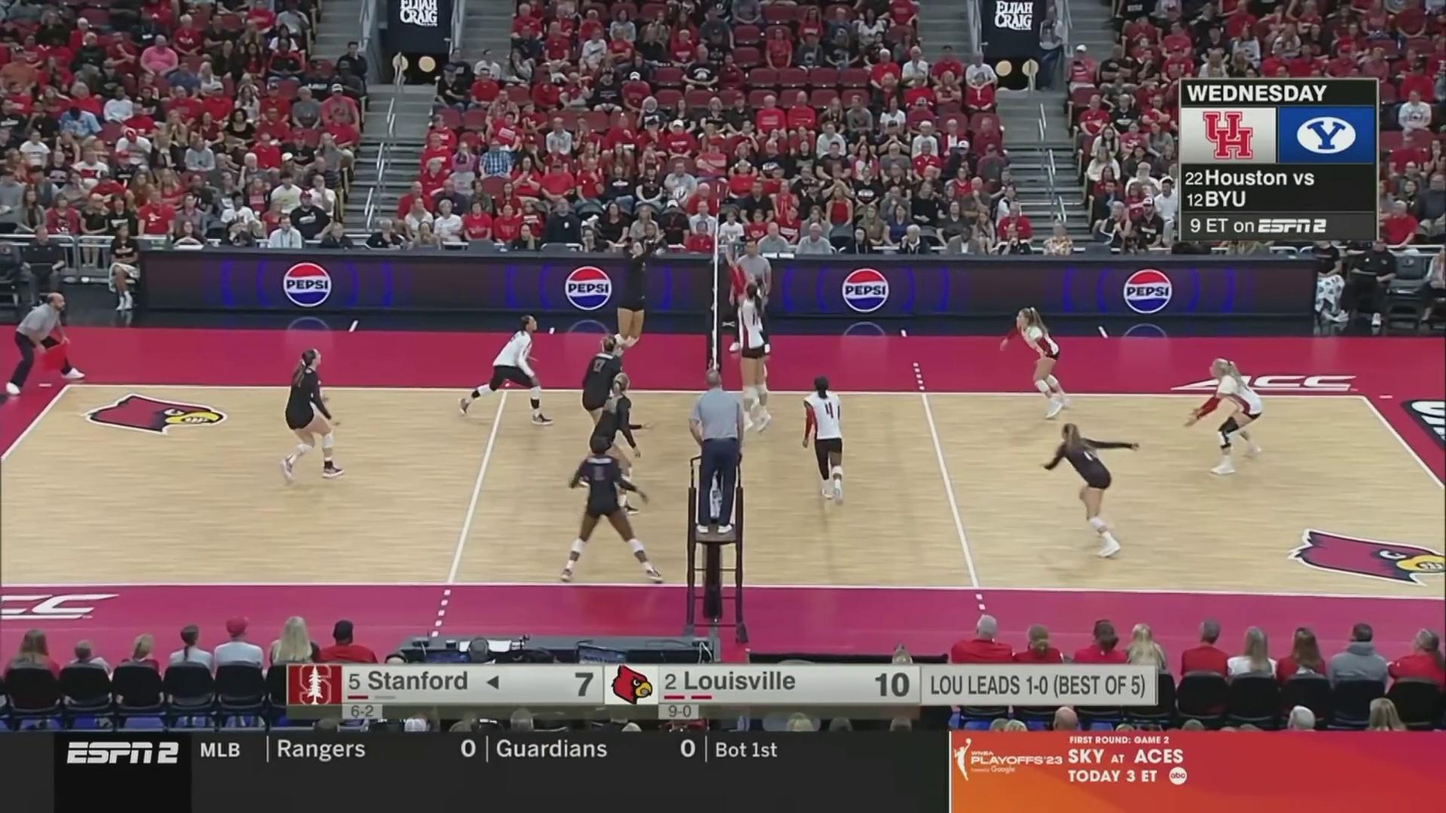player: (563, 435, 657, 579), (1051, 422, 1149, 558), (1178, 355, 1272, 472), (459, 318, 556, 426), (592, 239, 666, 377), (720, 255, 774, 436), (583, 336, 648, 472), (584, 363, 645, 506), (281, 350, 345, 481), (998, 307, 1069, 421), (731, 261, 781, 410), (800, 377, 851, 504)
refree: (692, 367, 746, 536), (11, 290, 84, 393), (732, 236, 774, 357)
